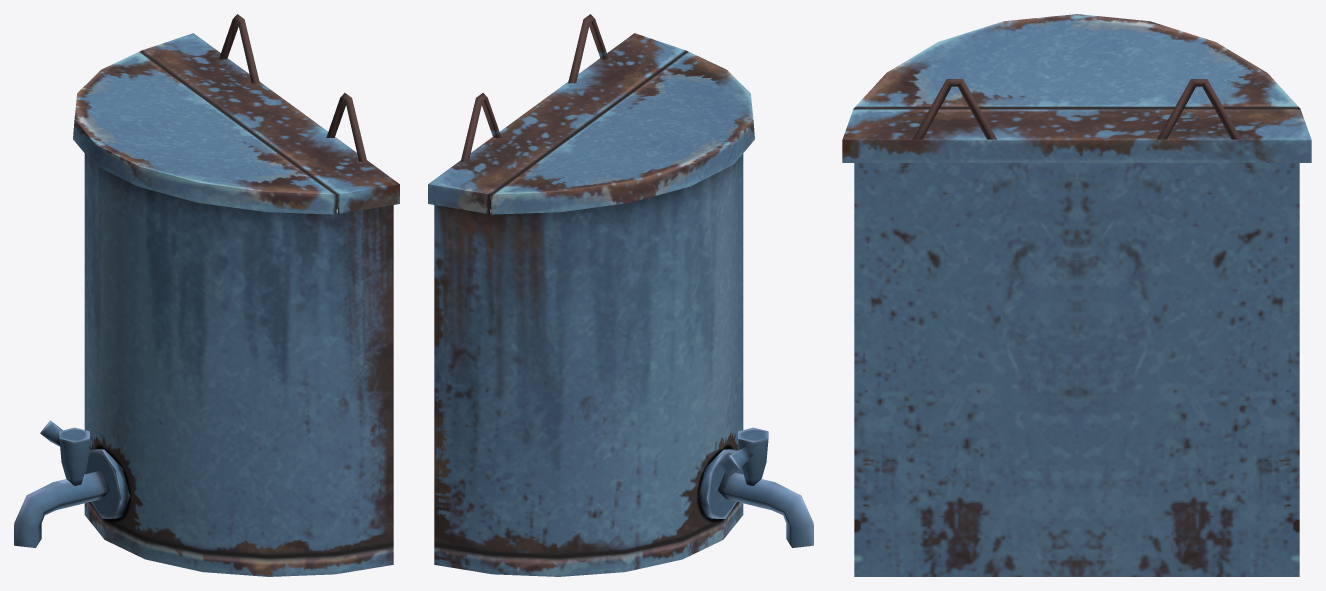
Rendered from waterDispenser.fbx.
3 renders of one model, left to right at view 1: azimuth 30°, elevation 25°; view 2: azimuth 150°, elevation 25°; view 3: azimuth 270°, elevation 25°, orthographic. The views are drawn at different scales.
Parts seen in each view (by area): view 1: waterDispenser; view 2: waterDispenser; view 3: waterDispenser.
Boxes of the visible parts, <box> form: waterDispenser: <box>14,14,399,576</box>; waterDispenser: <box>428,14,813,576</box>; waterDispenser: <box>842,14,1311,576</box>.
Bounding box in the file's own units: 0.3002 × 0.444 × 0.3798.
